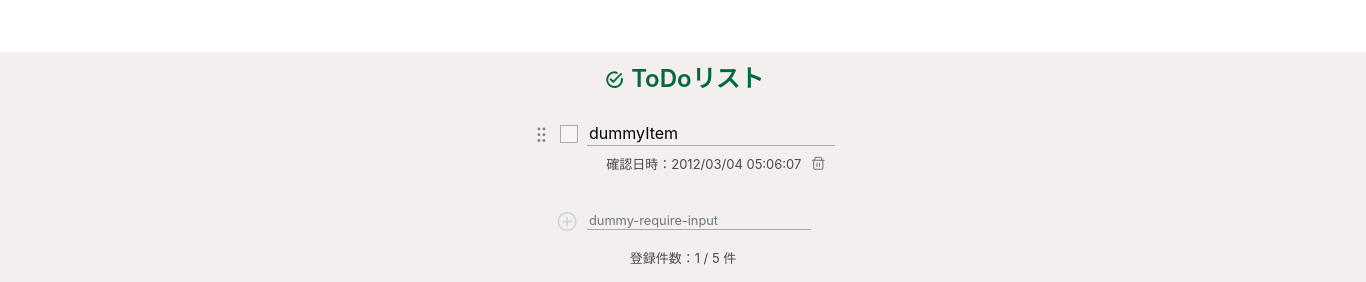
Test: TodoList.vue › a todo item is registered › display control › enable "register" button when input new subject
Expected: the button with id "subject-submit" is disabled, [555, 209, 579, 233]
Type "test" into the field with id "subject-input" at (699, 221), box [587, 212, 811, 230]
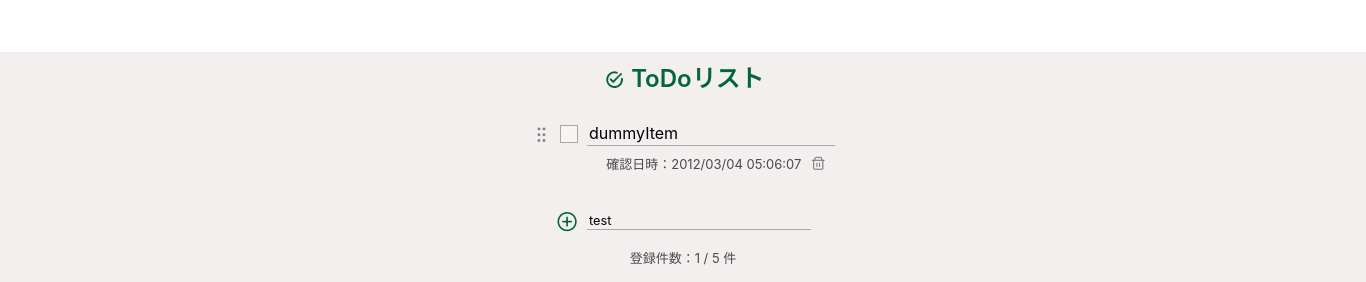
Expected: the button with id "subject-submit" is enabled, [555, 209, 579, 233]
